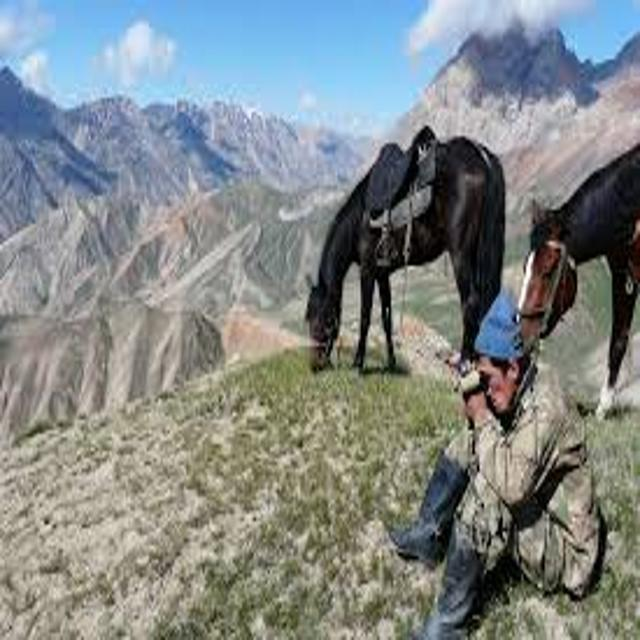Horse: (291, 123, 514, 414), (503, 178, 640, 401)
